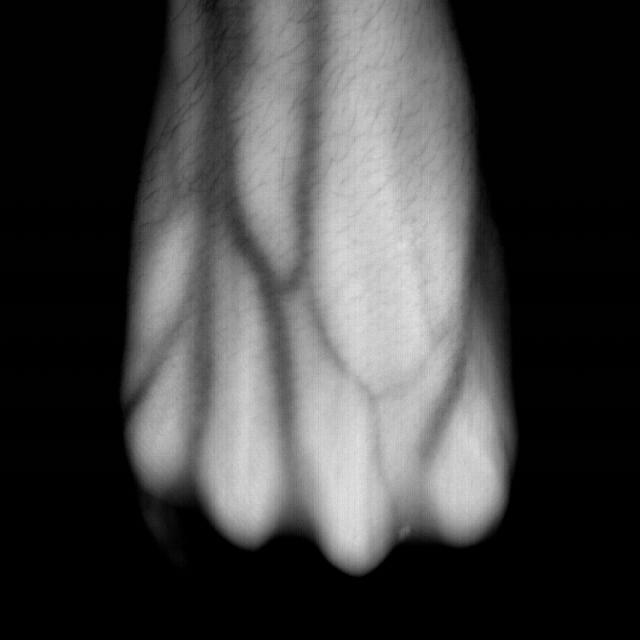Vein: (166, 15, 329, 397)
